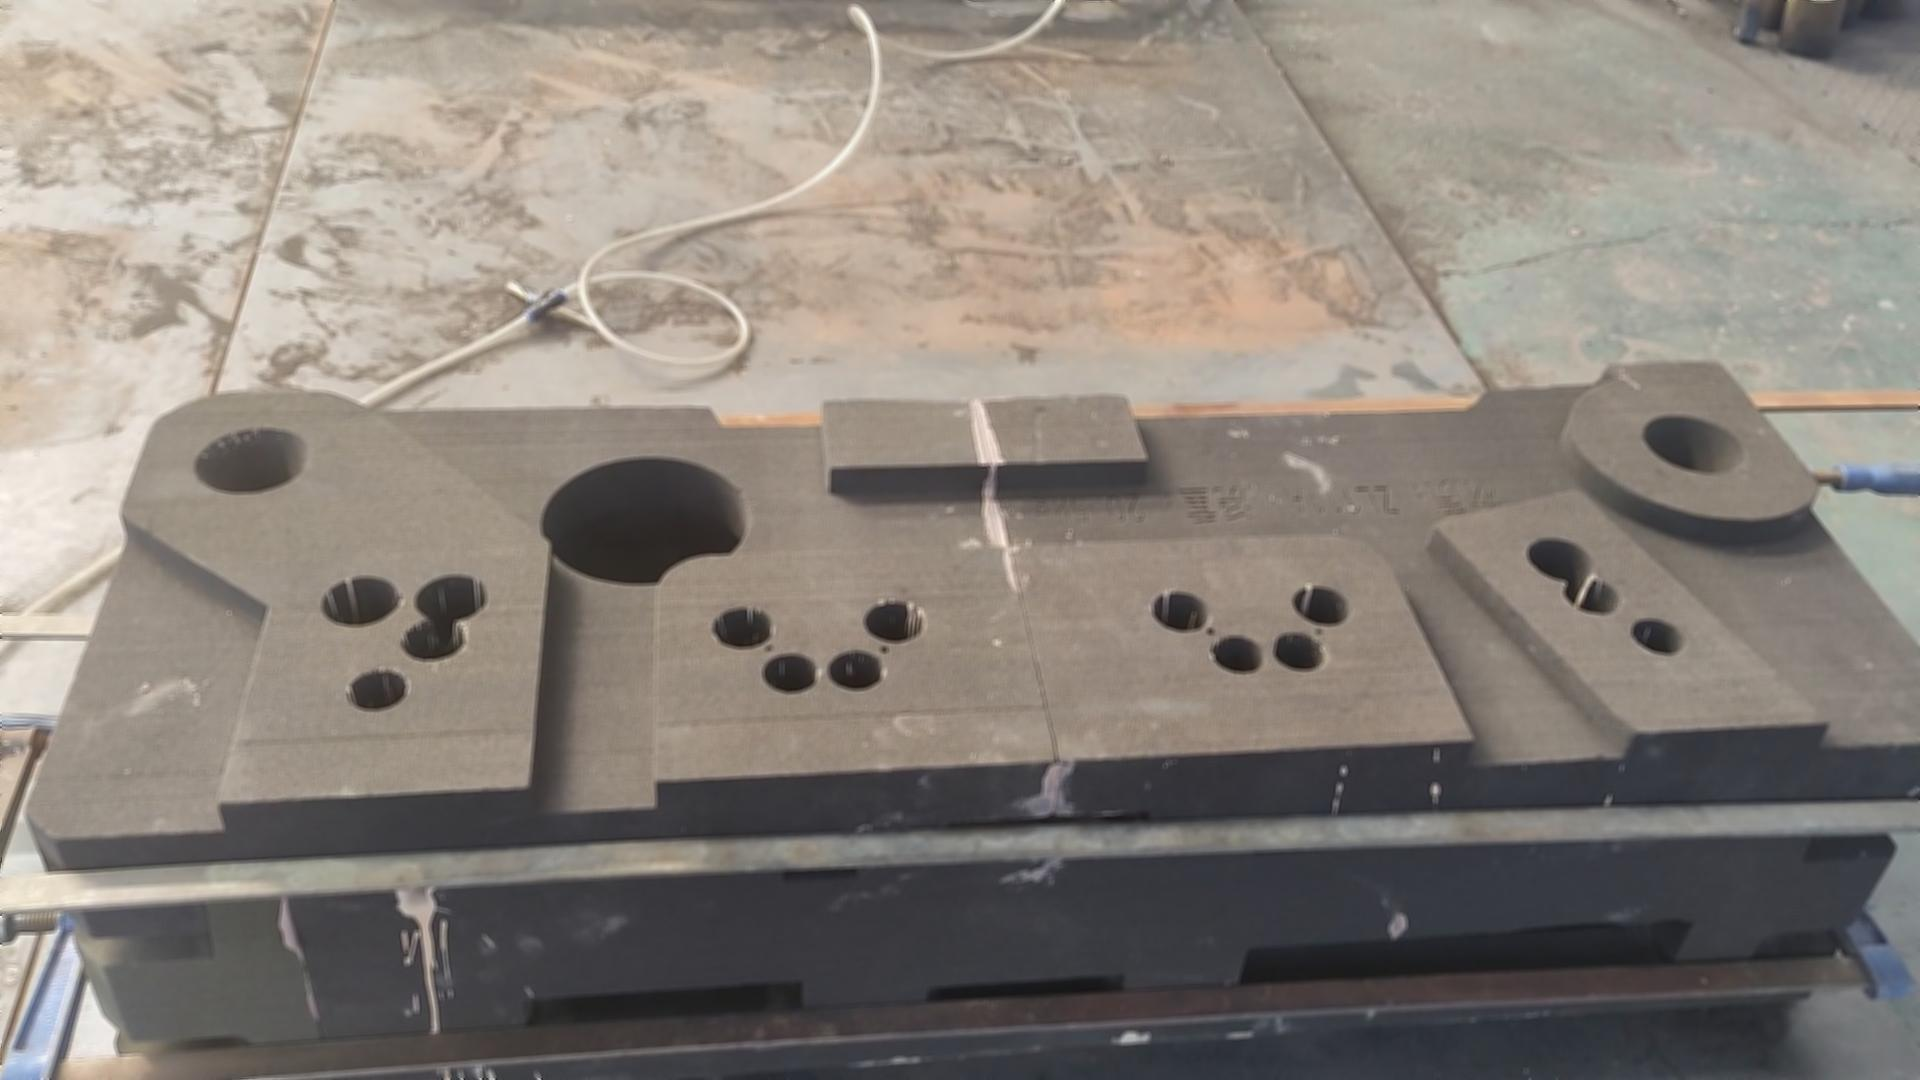pouring hole: (195, 427, 307, 492), (1643, 411, 1745, 476)
